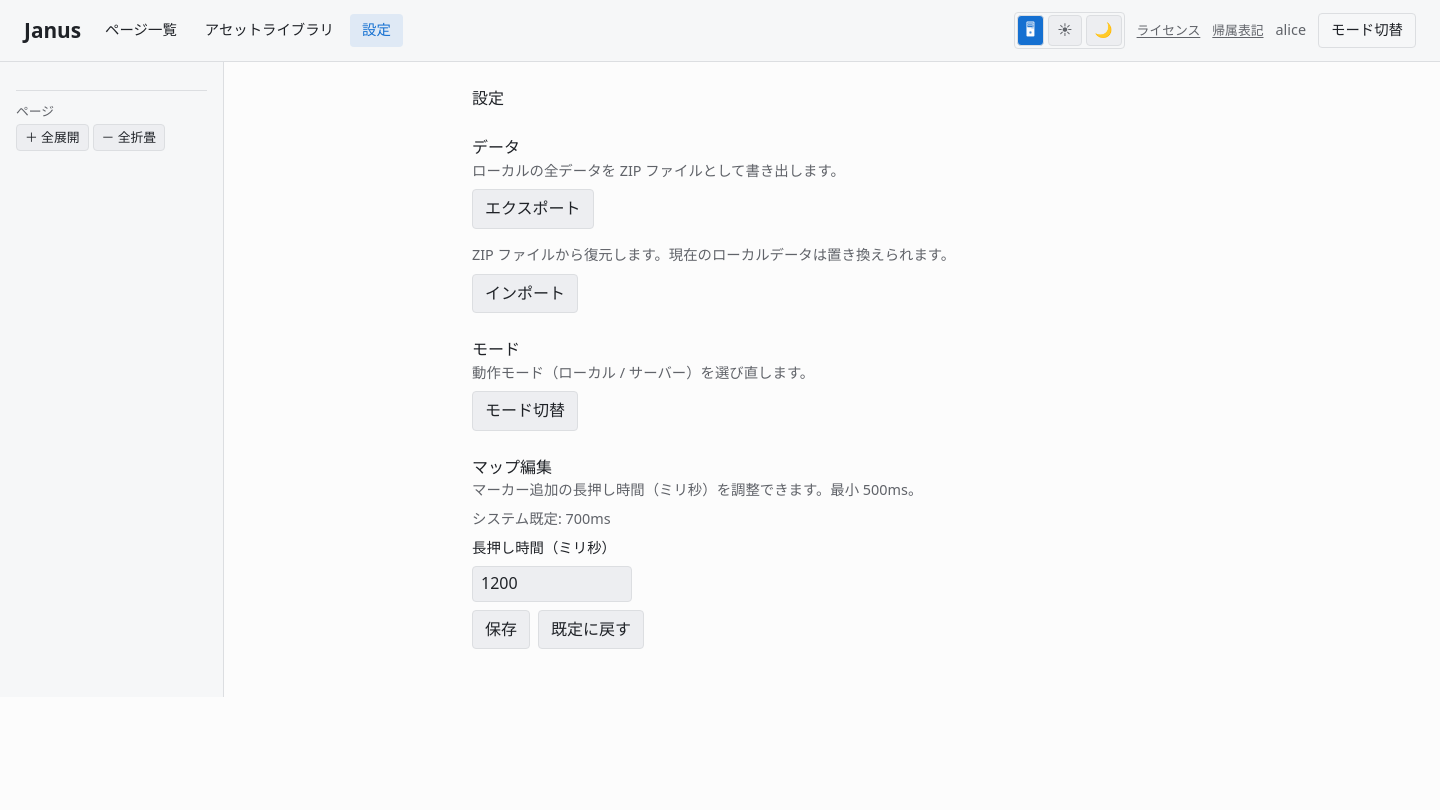
Test: SettingsPage（マップ編集セクション） › 『既定に戻す』で clearUserLongPressMs が呼ばれ入力が既定へ戻る
Check: the heading "設定" is shown, box left=472, top=87, right=504, bottom=109
Check: the number field labelled "長押し時間（ミリ秒）" holds "1200", box left=472, top=566, right=632, bottom=602
Click the button "既定に戻す" at (591, 630), box left=538, top=610, right=644, bottom=649
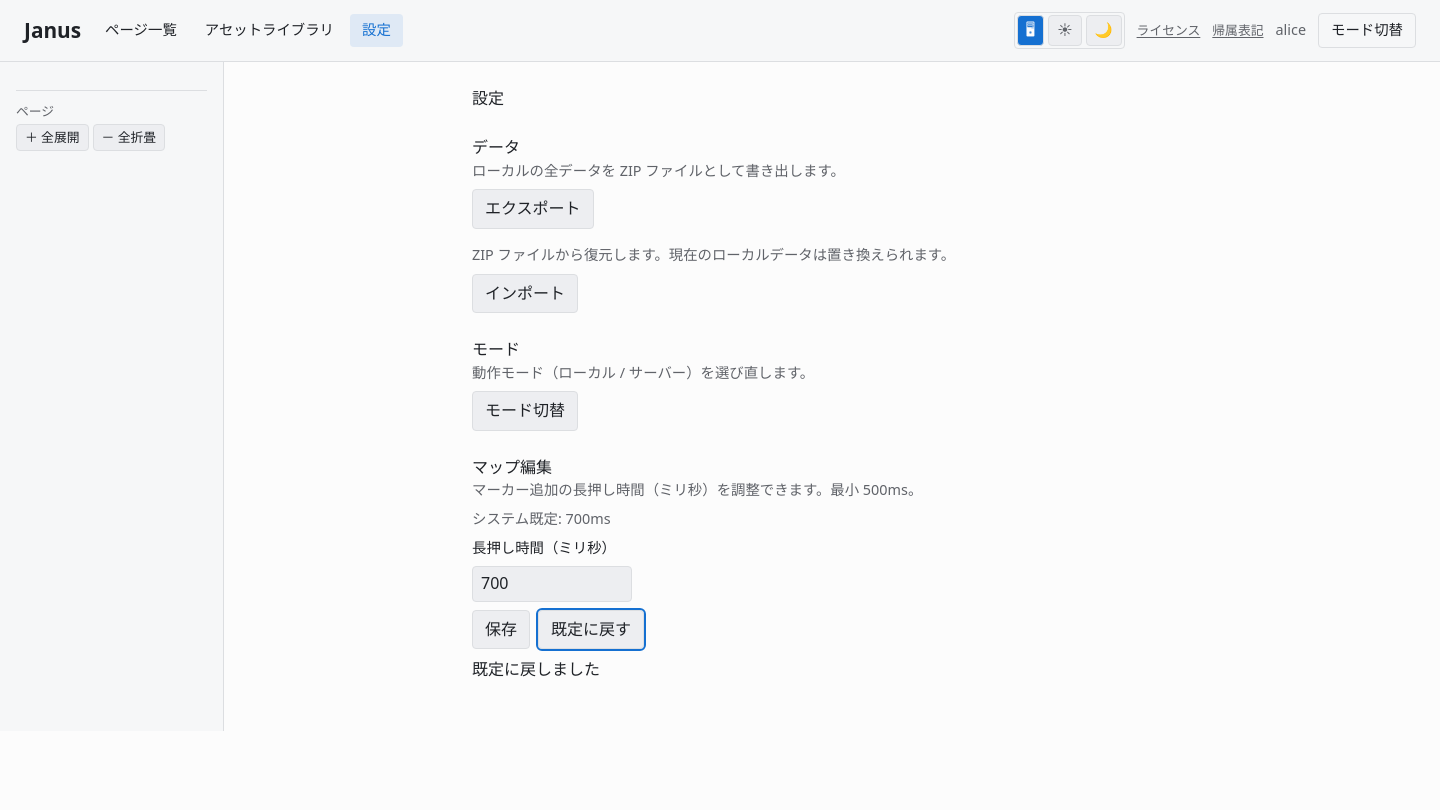
Check: the number field labelled "長押し時間（ミリ秒）" holds "700", box left=472, top=566, right=632, bottom=602
Check: the message reads "既定に戻しました", box left=472, top=658, right=600, bottom=680
